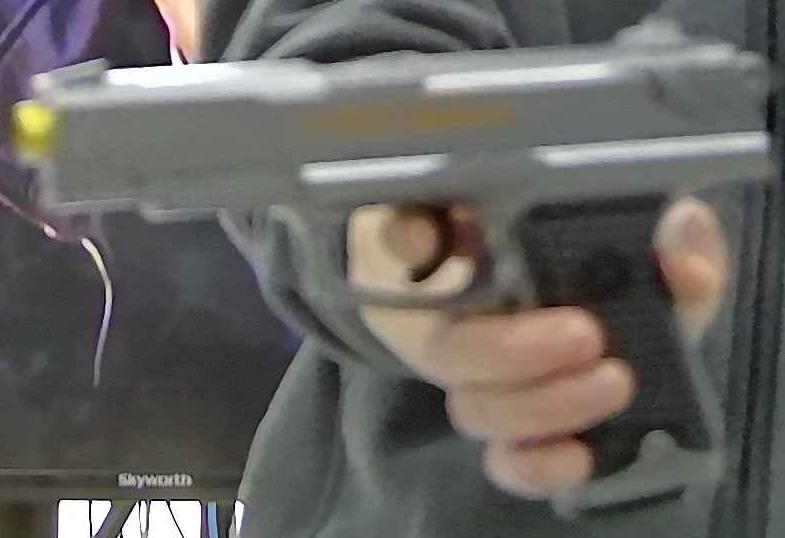gun: (1, 1, 785, 538)
